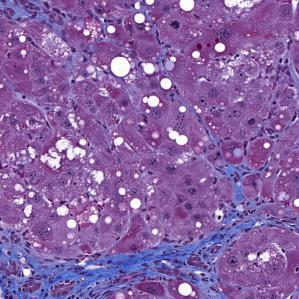fibrosis: (4, 227, 216, 289)
